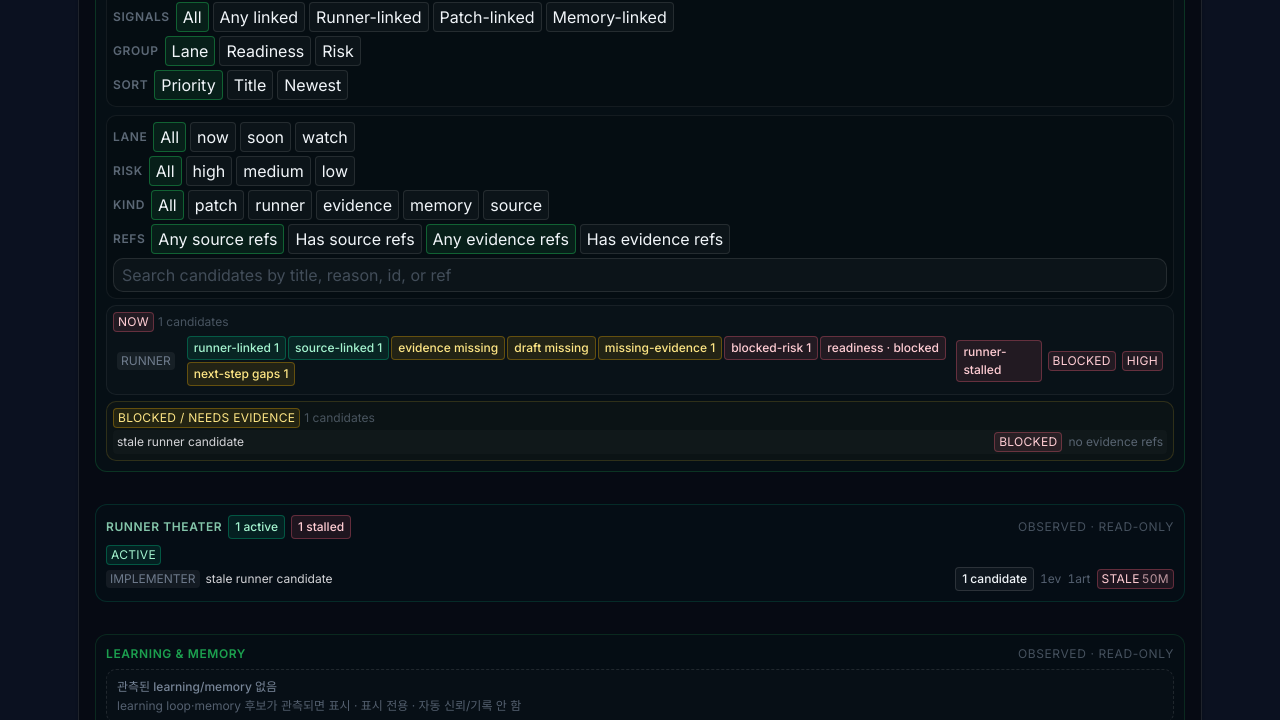
E16 — WorkItem Candidate runner signal UI › shows runner signals in the candidate detail drawer as read-only
(page scrolled)
Click the button with test id "wic-row-wic-runner-ms-stale".
click(640, 360)  # box [113,334,1167,388]
(page scrolled)
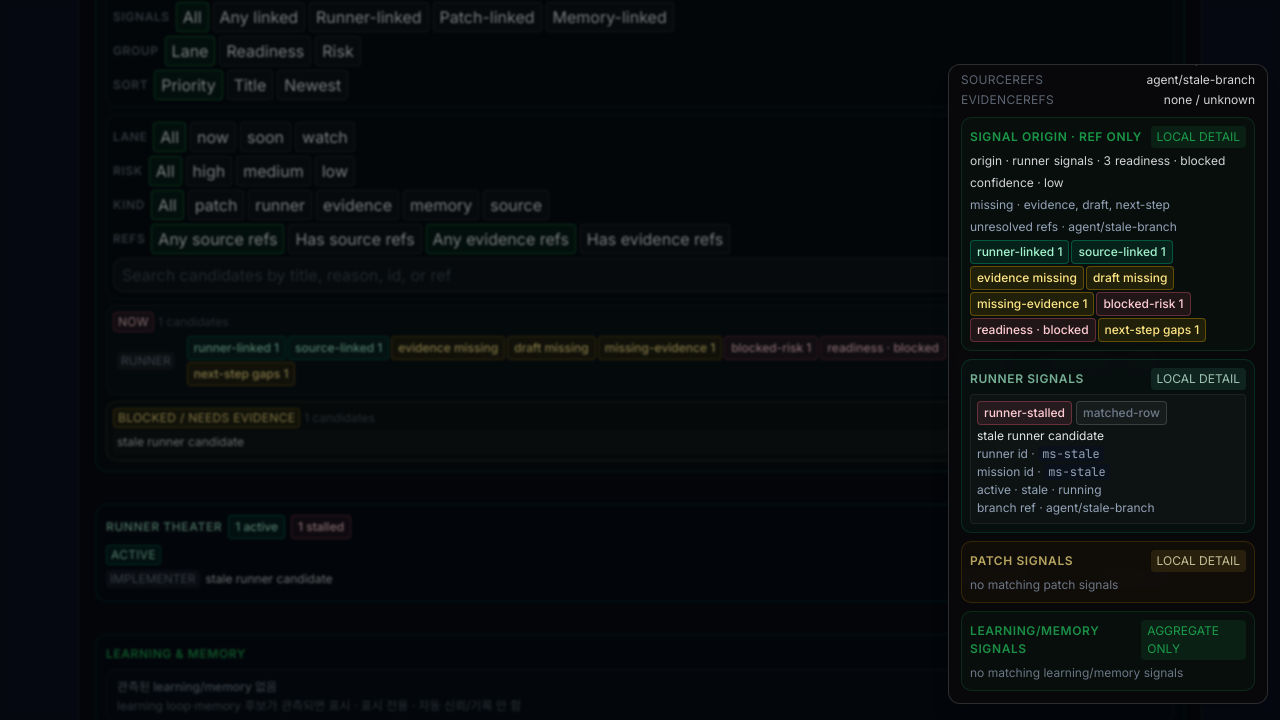
expect the element with test id "wic-runner-signals-section" shows "Runner Signals": met, box [970,371,1084,386]
expect the element with test id "wic-runner-signals-section" shows "ms-stale": met, box [1042,446,1100,462]
expect the element with test id "wic-runner-signals-section" shows "active": met, box [977,482,1011,497]
